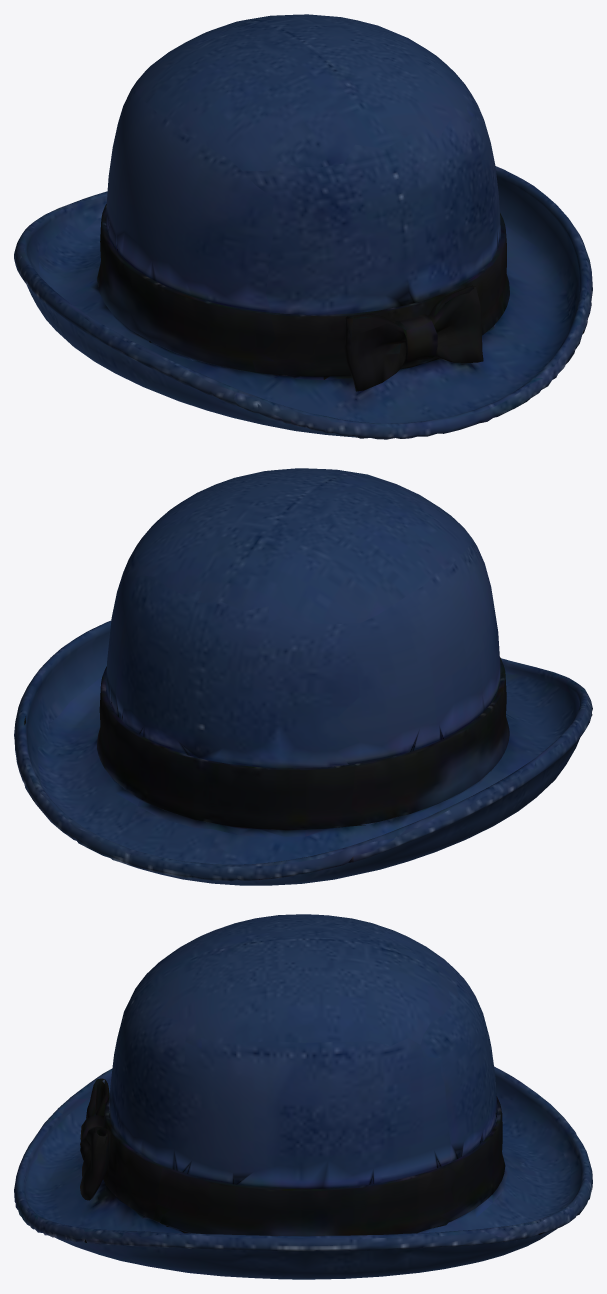
The model's file is bowler.glb.
The picture shows the model from 3 angles, top to bottom: view 1: azimuth 30°, elevation 25°; view 2: azimuth 150°, elevation 25°; view 3: azimuth 270°, elevation 25°; orthographic projection. The views are drawn at different scales.
Visible parts, largest first — view 1: node_0; view 2: node_0; view 3: node_0.
Boxes of the visible parts, x1,y1,x2,y2 form: node_0: [14, 14, 592, 439]; node_0: [14, 468, 592, 885]; node_0: [14, 914, 592, 1279].
Bounding box in the file's own units: 0.5 × 0.279 × 0.5581.
Materials: 1 (1 with a texture image).
